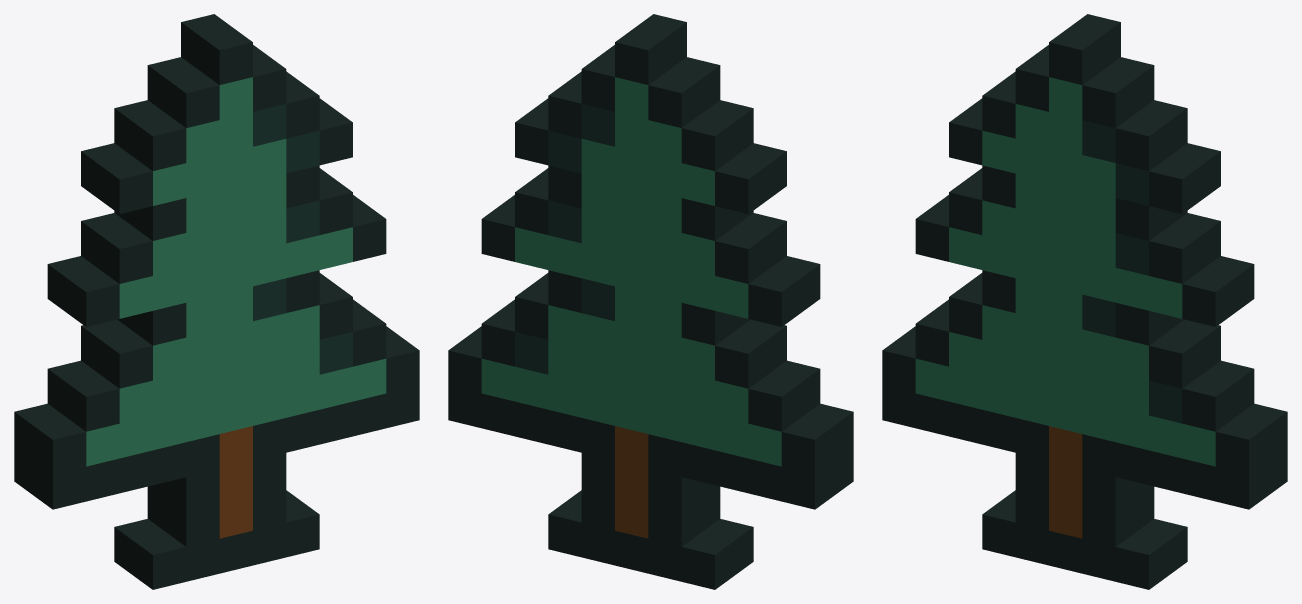
Rendered from pine.glb.
3 views of the same model, side by side, from view 1: azimuth 30°, elevation 25°; view 2: azimuth 150°, elevation 25°; view 3: azimuth 330°, elevation 25° (orthographic).
Visible parts, largest first — view 1: StepQuest pine; view 2: StepQuest pine; view 3: StepQuest pine.
Boxes of the visible parts, x1,y1,x2,y2 form: StepQuest pine: (14,14,419,589); StepQuest pine: (448,14,853,589); StepQuest pine: (882,14,1287,589).
Bounding box in the file's own units: 0.22 × 0.3 × 0.04.
